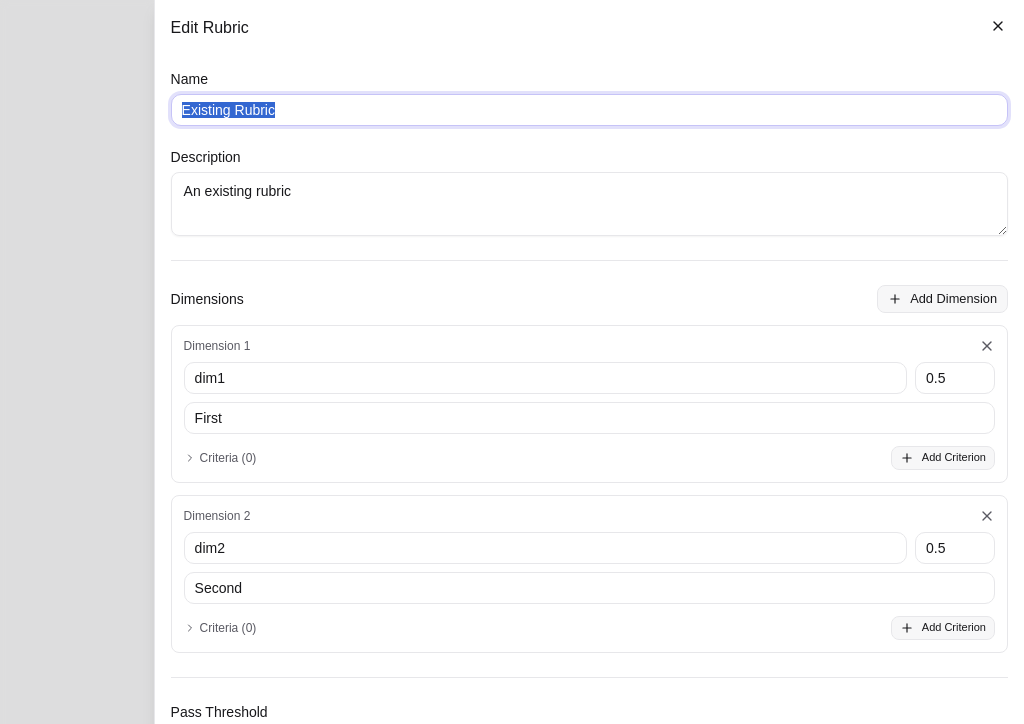
Scenario: RubricBuilder › can remove dimension rows
This screenshot has width=1024, height=724.
What coordinates should you click on to do the following:
click the 1st button with test id "remove-dimension"
I would click on:
 (987, 346)
Its box is [979,338,995,354].
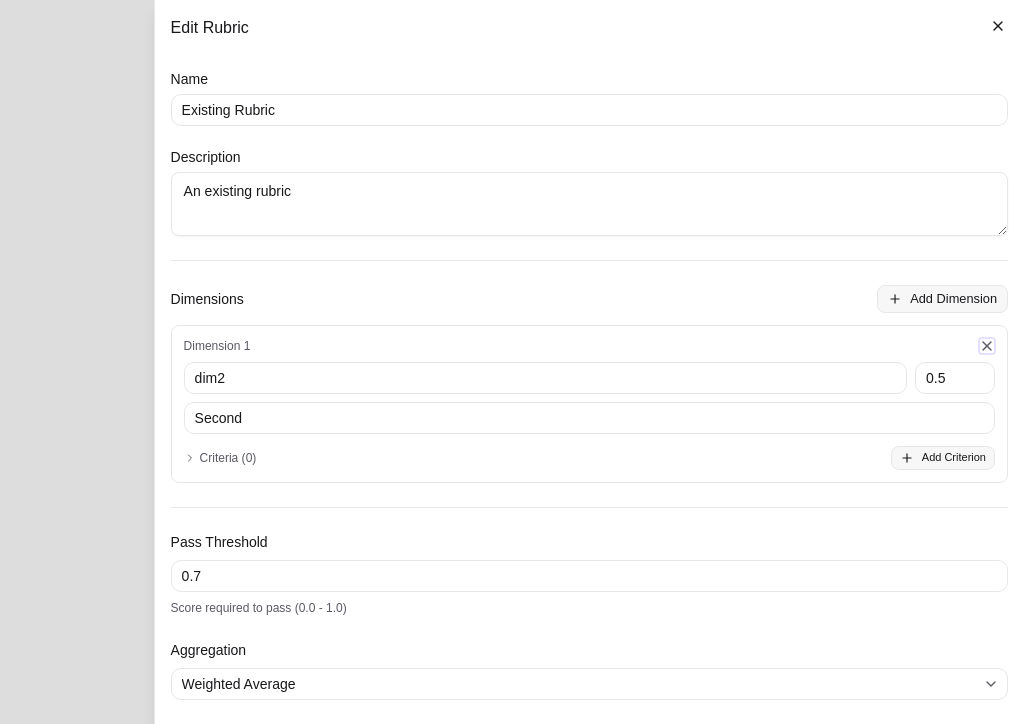
Now the number of elements with test id "dimension-row" is 1, box [171,325,1008,483]
